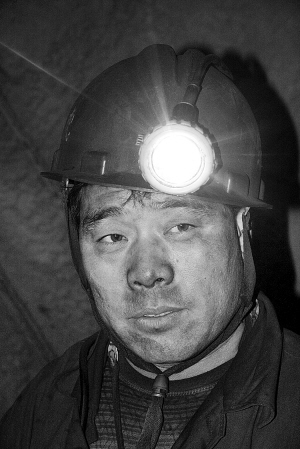helmet: (35, 41, 282, 363)
